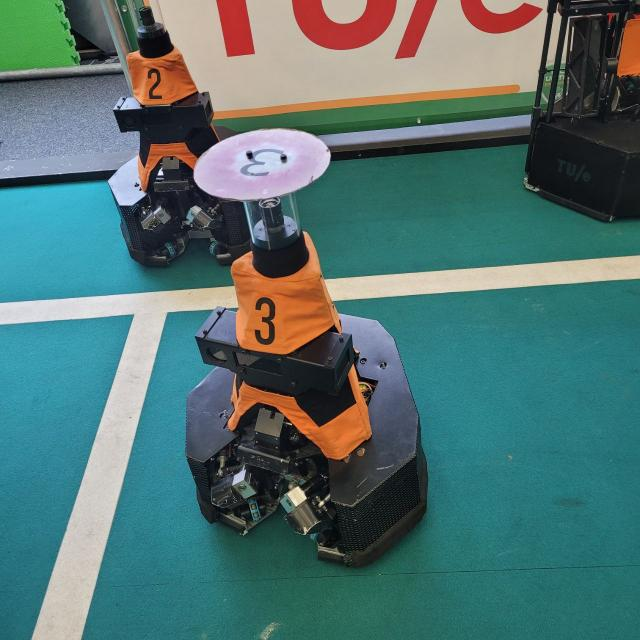Robots: (188, 133, 442, 559), (97, 1, 239, 285)
